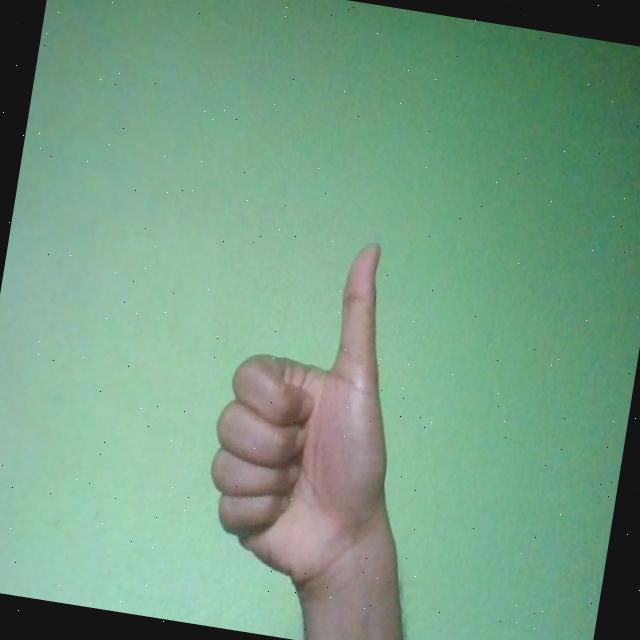Good Job: (192, 220, 422, 602)
